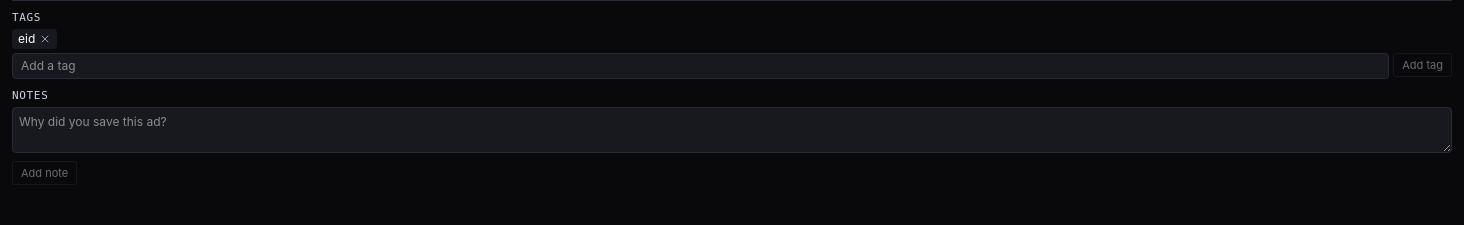
W9-2 #7 tags and notes on a board card › keeps the old tags and says so when saving fails
Type "new" into the field labelled "Add a tag".
click(701, 66); type("new")  # box [12, 53, 1389, 79]
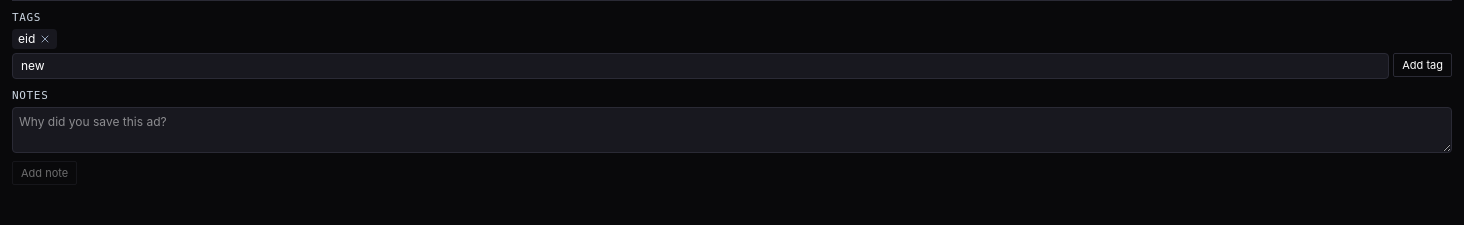
Click the button "Add tag".
click(1423, 65)  # box [1393, 53, 1452, 77]
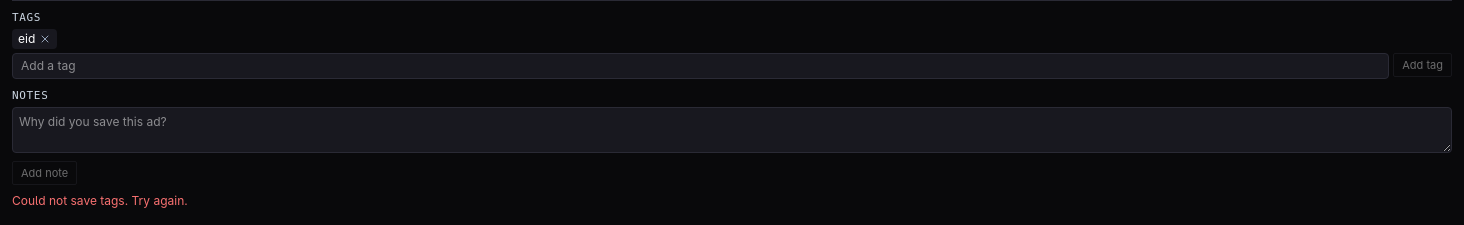
Expected: the text "new" is not shown
Now the message shows "Could not save tags", box [12, 193, 188, 208]
